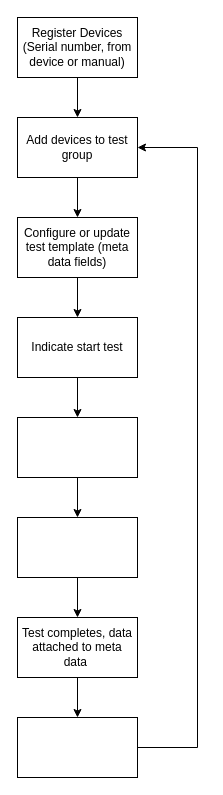
Some shapes in this 223 by 795 pixel diagram are drawn without their labels. The centre of each missing label's shape, as x and y in pixels:
Assign failure modes: the point at 77,747
Confirm or update meta data: the point at 77,447
Test starts, time logged, data collected: the point at 77,547
